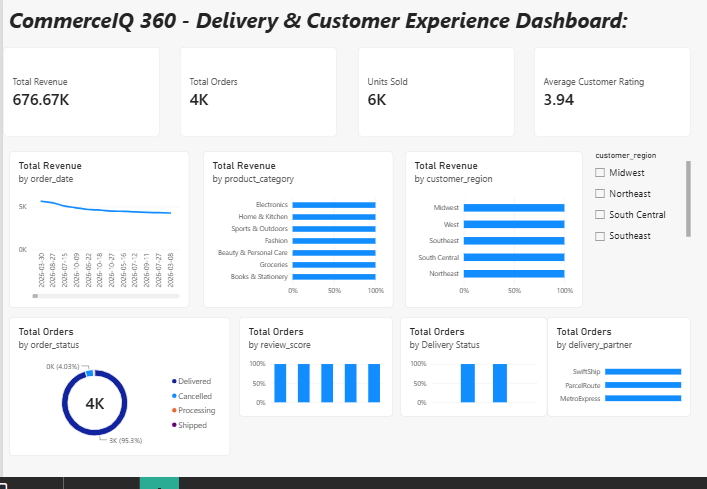

The page's visual inventory and layout, read from the dashboard file:
{"tool":"powerbi","page":{"name":"Page 1","canvas":[1920,1080],"ordinal":0},"visuals":[{"type":"cardVisual","fields":{"Data":["commerceiq360 orders.Total Revenue"]},"box":[0,90,280,160],"z":0},{"type":"cardVisual","fields":{"Data":["commerceiq360 orders.Total Orders"]},"box":[316.7,90,280,160],"z":1000},{"type":"cardVisual","fields":{"Data":["commerceiq360 orders.Units Sold"]},"box":[633.3,90,280,160],"z":2000},{"type":"cardVisual","fields":{"Data":["commerceiq360 orders.Average Customer Rating"]},"box":[948.3,90,280,160],"z":3000},{"type":"lineChart","fields":{"Category":["commerceiq360 orders.order_date"],"Y":["commerceiq360 orders.Total Revenue"]},"box":[10,275,321.7,280],"z":4000},{"type":"hundredPercentStackedBarChart","fields":{"Category":["commerceiq360 orders.product_category"],"Y":["commerceiq360 orders.Total Revenue"]},"box":[356.7,275,340,280],"z":5000},{"type":"hundredPercentStackedBarChart","fields":{"Category":["commerceiq360 orders.customer_region"],"Y":["commerceiq360 orders.Total Revenue"]},"box":[718.3,275,316.7,280],"z":6000},{"type":"donutChart","fields":{"Category":["commerceiq360 orders.order_status"],"Y":["commerceiq360 orders.Total Orders"]},"box":[10,571.7,395,248.3],"z":7000},{"type":"hundredPercentStackedColumnChart","fields":{"Category":["commerceiq360 orders.review_score"],"Y":["commerceiq360 orders.Total Orders"]},"box":[421.7,571.7,275,178.3],"z":8000},{"type":"hundredPercentStackedBarChart","fields":{"Category":["commerceiq360 orders.delivery_partner"],"Y":["commerceiq360 orders.Total Orders"]},"box":[971.7,571.7,256.7,178.3],"z":9000},{"type":"hundredPercentStackedColumnChart","fields":{"Category":["commerceiq360 orders.Delivery Status"],"Y":["commerceiq360 orders.Total Orders"]},"box":[708.3,571.7,263.3,178.3],"z":10000},{"type":"slicer","fields":{"Values":["commerceiq360 orders.customer_region"]},"box":[1050,275,178.3,178.3],"z":11000},{"type":"textbox","box":[10,16.7,1130,73.3],"z":11001}]}

Visuals, with their boxes on the page's 1920x1080 design canvas (x1, y1, x2, y2). These are canvas units, not pixel positions in the 707x489 screenshot, which may show the page scaled, cropped or inside an application window:
cardVisual - commerceiq360 orders.Total Revenue: BBox(0, 90, 280, 250)
cardVisual - commerceiq360 orders.Total Orders: BBox(317, 90, 597, 250)
cardVisual - commerceiq360 orders.Units Sold: BBox(633, 90, 913, 250)
cardVisual - commerceiq360 orders.Average Customer Rating: BBox(948, 90, 1228, 250)
lineChart - commerceiq360 orders.order_date x commerceiq360 orders.Total Revenue: BBox(10, 275, 332, 555)
hundredPercentStackedBarChart - commerceiq360 orders.product_category x commerceiq360 orders.Total Revenue: BBox(357, 275, 697, 555)
hundredPercentStackedBarChart - commerceiq360 orders.customer_region x commerceiq360 orders.Total Revenue: BBox(718, 275, 1035, 555)
donutChart - commerceiq360 orders.order_status x commerceiq360 orders.Total Orders: BBox(10, 572, 405, 820)
hundredPercentStackedColumnChart - commerceiq360 orders.review_score x commerceiq360 orders.Total Orders: BBox(422, 572, 697, 750)
hundredPercentStackedBarChart - commerceiq360 orders.delivery_partner x commerceiq360 orders.Total Orders: BBox(972, 572, 1228, 750)
hundredPercentStackedColumnChart - commerceiq360 orders.Delivery Status x commerceiq360 orders.Total Orders: BBox(708, 572, 972, 750)
slicer - commerceiq360 orders.customer_region: BBox(1050, 275, 1228, 453)
textbox: BBox(10, 17, 1140, 90)
